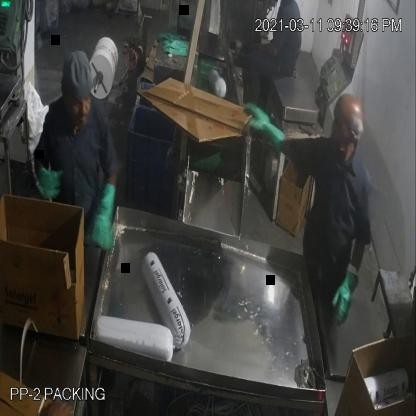glove: (85, 176, 124, 265), (325, 260, 368, 332), (244, 92, 282, 154)
no_glove: (243, 35, 281, 60)
